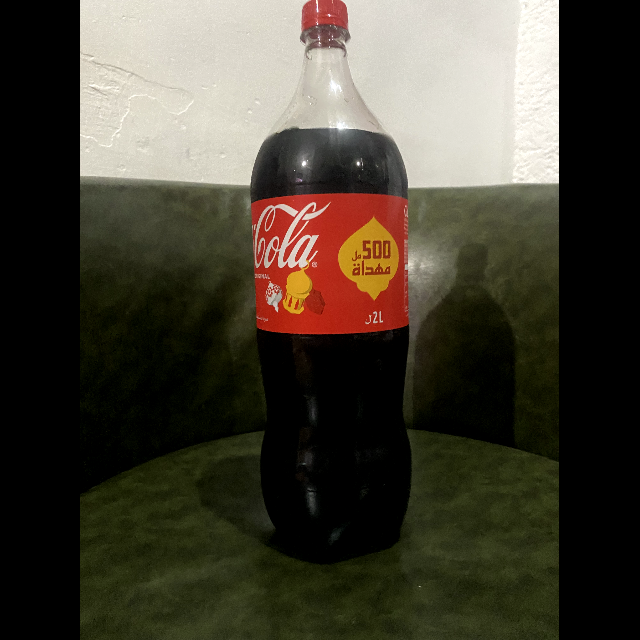coca-cola GB: (250, 0, 414, 555)
